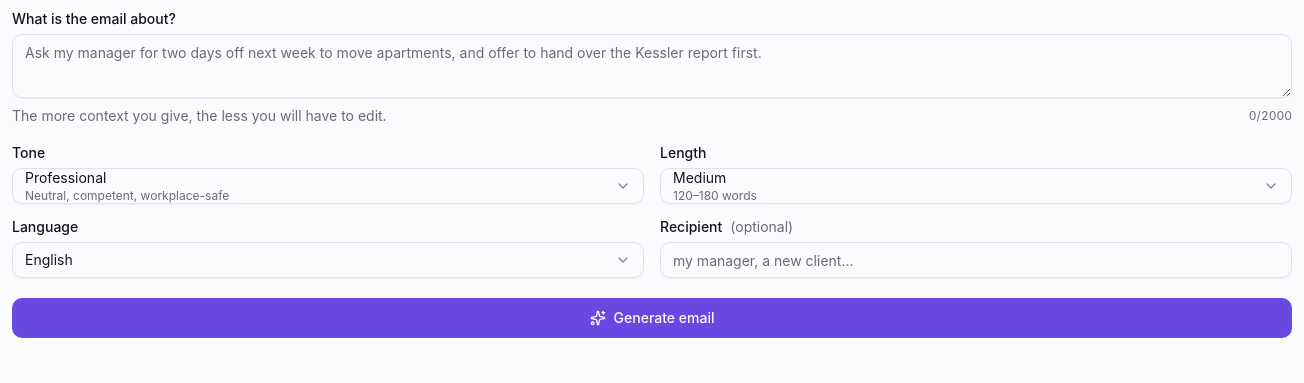
Test: GeneratorForm › blocks submission when the topic is too short
The image size is (1304, 383).
In the text box labelled "What is the email about?": {"x": 652, "y": 66} [12, 34, 1292, 98], type "too short"
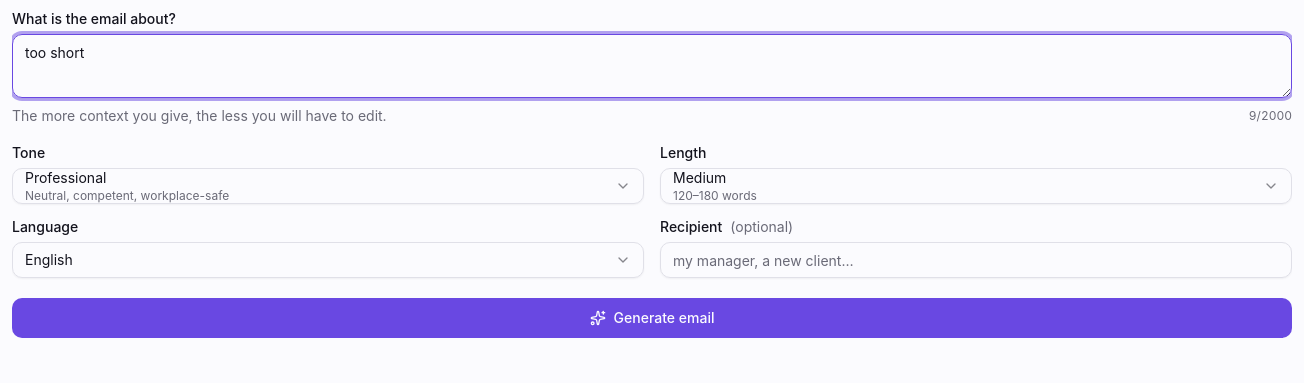
Click the button "Generate email": {"x": 652, "y": 318} [12, 298, 1292, 338]
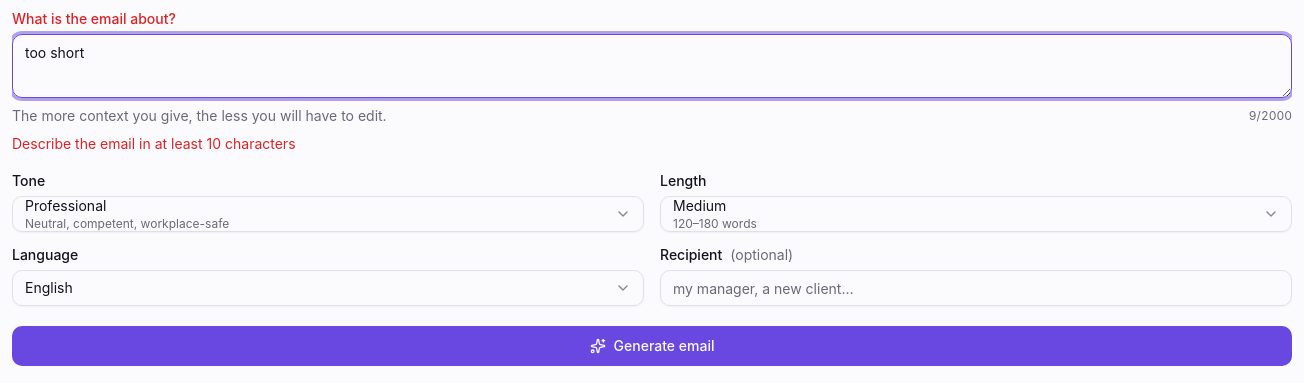
Check: the text "Describe the email in at least 10 characters" is shown, box [12, 135, 296, 152]
